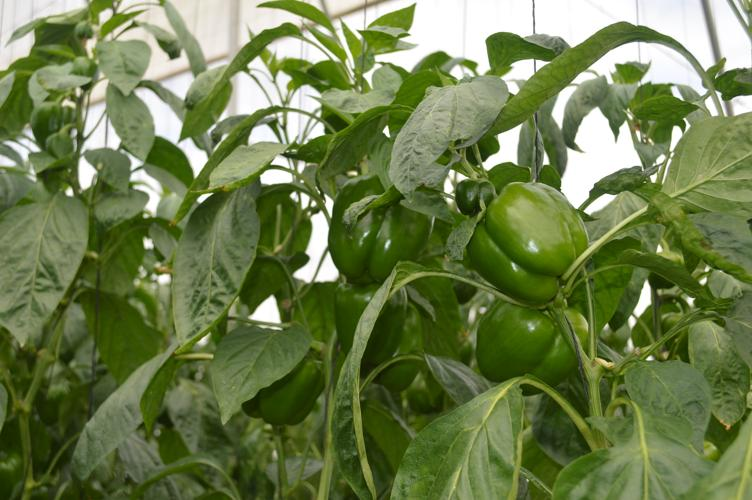BellPepper: (470, 179, 588, 304), (327, 174, 428, 281), (472, 304, 580, 394), (331, 282, 404, 365), (249, 353, 329, 424), (373, 310, 425, 388)
